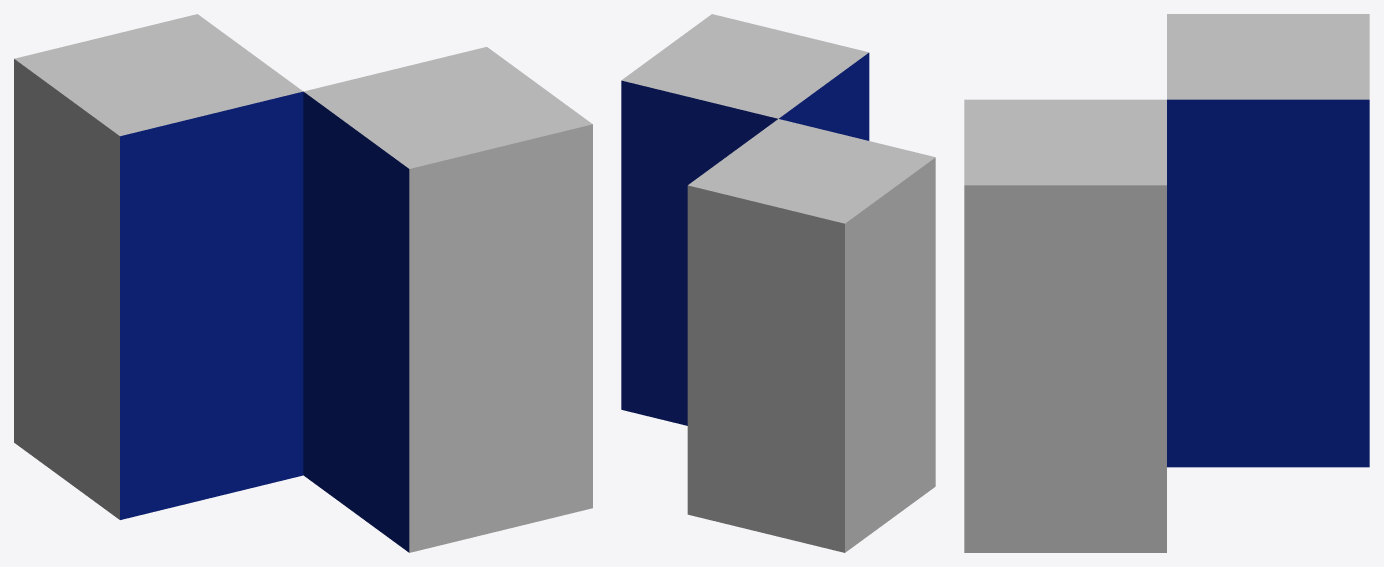
File: case_85.fbx
3 renders of one model, left to right at view 1: azimuth 30°, elevation 25°; view 2: azimuth 150°, elevation 25°; view 3: azimuth 270°, elevation 25°, orthographic. The views are drawn at different scales.
Visible parts, largest first — view 1: case_85; view 2: case_85; view 3: case_85.
Part boxes in pixels (x1=…): case_85: x1=14, y1=14, x2=592, y2=552; case_85: x1=621, y1=14, x2=935, y2=552; case_85: x1=964, y1=14, x2=1369, y2=552.
Size of the model in its own units: 1 by 1 by 1.
